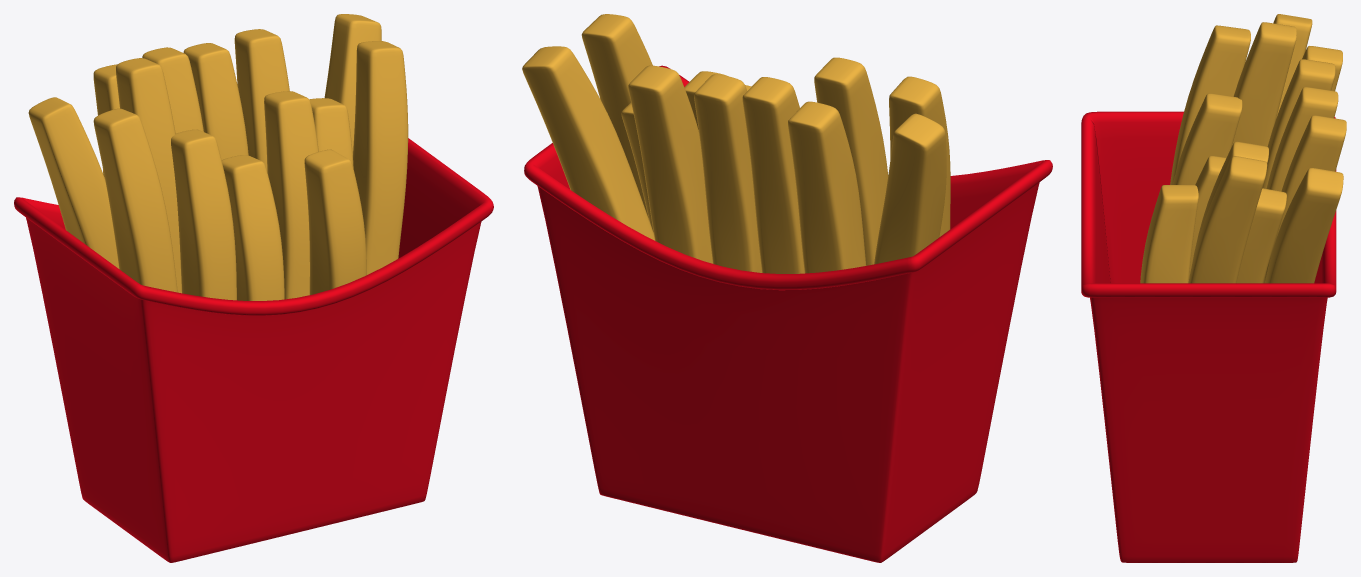
Rendered from Patatine.fbx.
The picture shows the model from 3 angles, left to right: view 1: azimuth 30°, elevation 25°; view 2: azimuth 150°, elevation 25°; view 3: azimuth 270°, elevation 25°; orthographic projection. The views are drawn at different scales.
Visible parts, largest first — view 1: ContenitorePat, Patatine; view 2: ContenitorePat, Patatine; view 3: ContenitorePat, Patatine.
Boxes of the visible parts, x1,y1,x2,y2 form: ContenitorePat: (14, 138, 493, 562); Patatine: (28, 14, 408, 300); ContenitorePat: (524, 65, 1052, 562); Patatine: (522, 14, 950, 273); ContenitorePat: (1081, 111, 1336, 562); Patatine: (1140, 14, 1346, 283).
Bounding box in the file's own units: 210 × 241 × 134.
